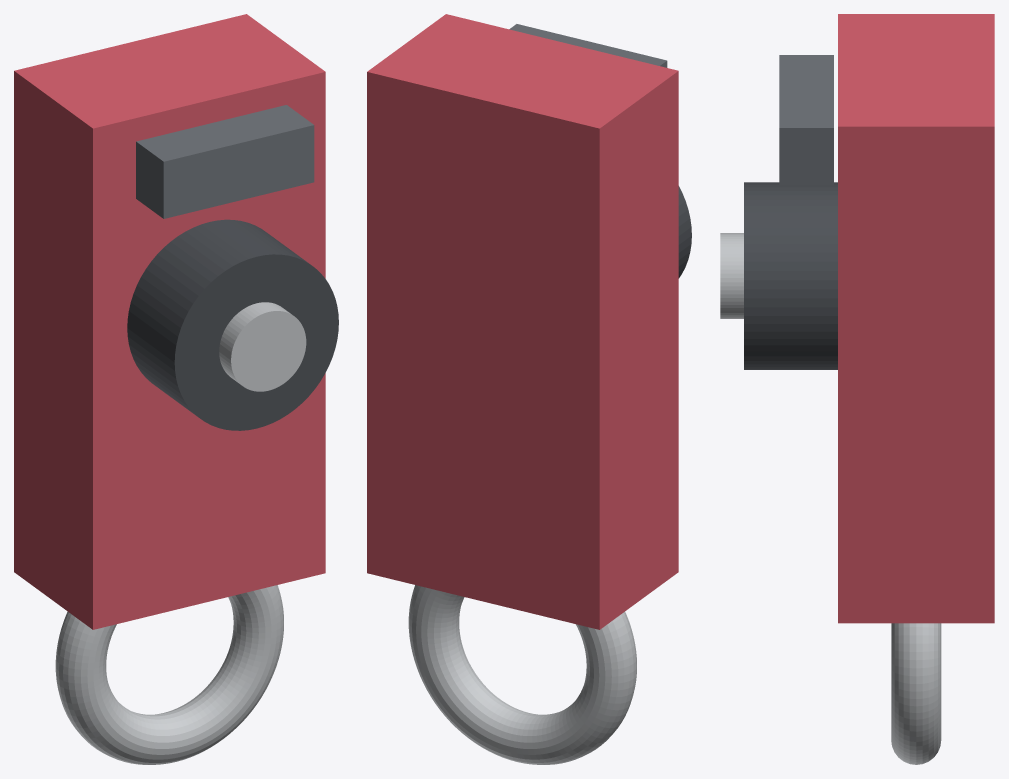
The model's file is clutch.glb.
3 renders of one model, left to right at view 1: azimuth 30°, elevation 25°; view 2: azimuth 150°, elevation 25°; view 3: azimuth 270°, elevation 25°, orthographic.
Parts seen in each view (by area): view 1: part_0, part_1, part_3, part_4, part_2; view 2: part_0, part_3, part_4, part_1; view 3: part_0, part_1, part_4, part_3, part_2.
Boxes of the visible parts, box(x1,y1,x2,y2) form: part_0: box(14, 14, 325, 629); part_1: box(127, 219, 338, 430); part_3: box(55, 585, 283, 764); part_4: box(136, 105, 314, 218); part_2: box(219, 302, 306, 391); part_0: box(367, 14, 678, 629); part_3: box(408, 585, 636, 764); part_4: box(509, 24, 667, 67); part_1: box(678, 186, 691, 278); part_0: box(838, 14, 994, 623); part_1: box(744, 182, 837, 369); part_4: box(779, 55, 833, 184); part_3: box(891, 623, 941, 764); part_2: box(720, 233, 743, 318).
Bounding box in the file's own units: 0.34 × 0.962 × 0.35.
